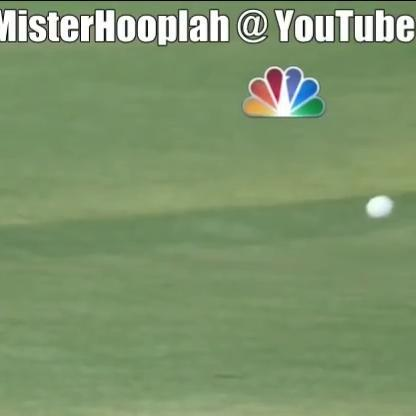golfball: (362, 196, 395, 221)
